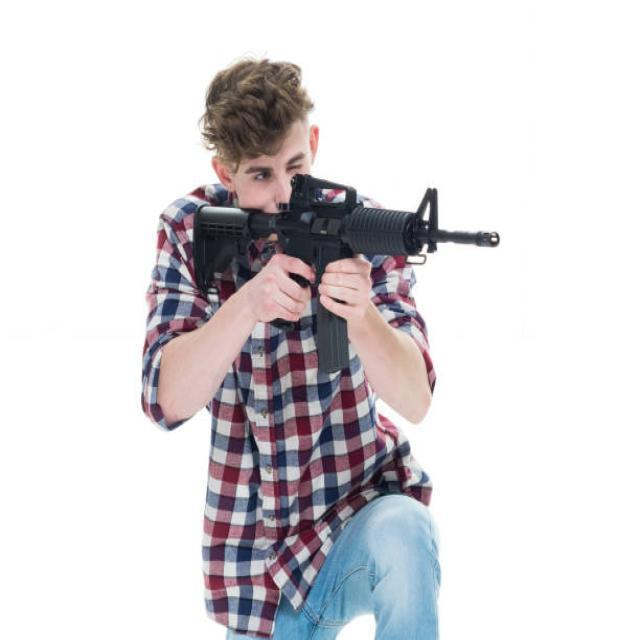Rifle: (189, 171, 516, 379)
